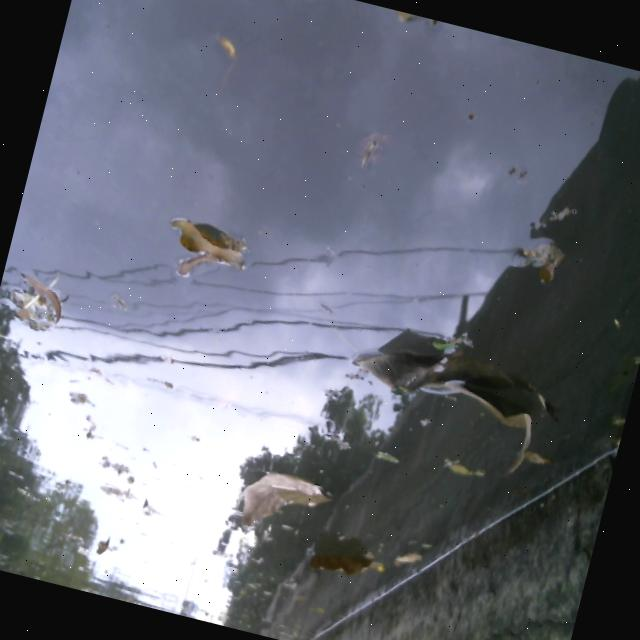Big-leaf: (419, 361, 549, 475), (345, 319, 459, 415), (231, 455, 339, 546), (302, 527, 391, 597)
Small-leaf: (162, 204, 242, 266), (6, 264, 70, 340), (174, 240, 241, 298), (513, 234, 569, 296), (438, 451, 491, 487), (539, 197, 582, 237), (349, 121, 387, 166), (393, 537, 431, 576), (89, 524, 126, 563), (390, 9, 437, 39), (211, 24, 246, 63), (516, 442, 552, 476), (371, 442, 408, 471), (94, 477, 129, 507), (63, 385, 98, 413)
